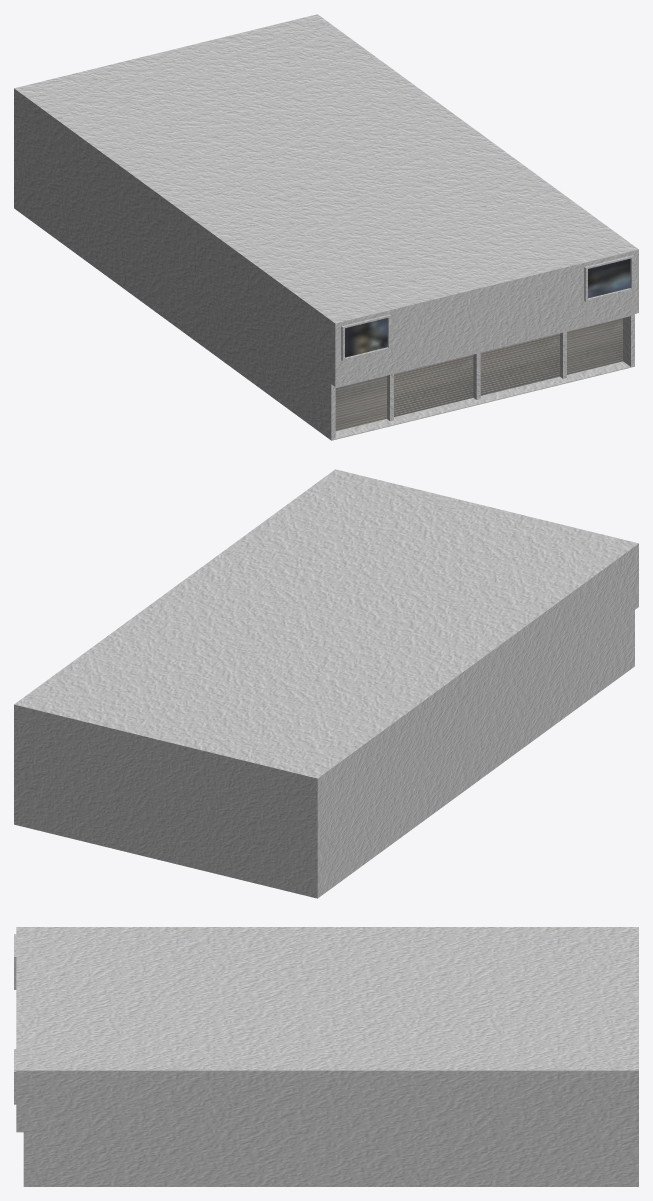
Rendered from Ext Build 4.obj.
3 renders of one model, top to bottom at view 1: azimuth 30°, elevation 25°; view 2: azimuth 150°, elevation 25°; view 3: azimuth 270°, elevation 25°, orthographic. The views are drawn at different scales.
Visible parts, largest first — view 1: Exterior_Building_4_Plane.004; view 2: Exterior_Building_4_Plane.004; view 3: Exterior_Building_4_Plane.004.
Boxes of the visible parts, left/top/right/bottom form: Exterior_Building_4_Plane.004: left=14, top=14, right=638, bottom=440; Exterior_Building_4_Plane.004: left=14, top=469, right=638, bottom=898; Exterior_Building_4_Plane.004: left=14, top=927, right=638, bottom=1186.
Size of the model in its own units: 22.5 by 8.5 by 41.4.
Materials: 1 (1 with a texture image).
